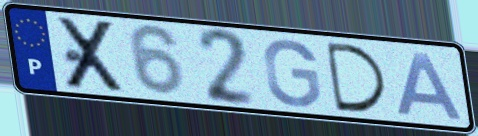2: (194, 25, 258, 108)
6: (125, 22, 191, 101)
A: (393, 49, 467, 123)
D: (322, 40, 392, 115)
G: (260, 36, 324, 109)
X: (55, 15, 129, 95)
